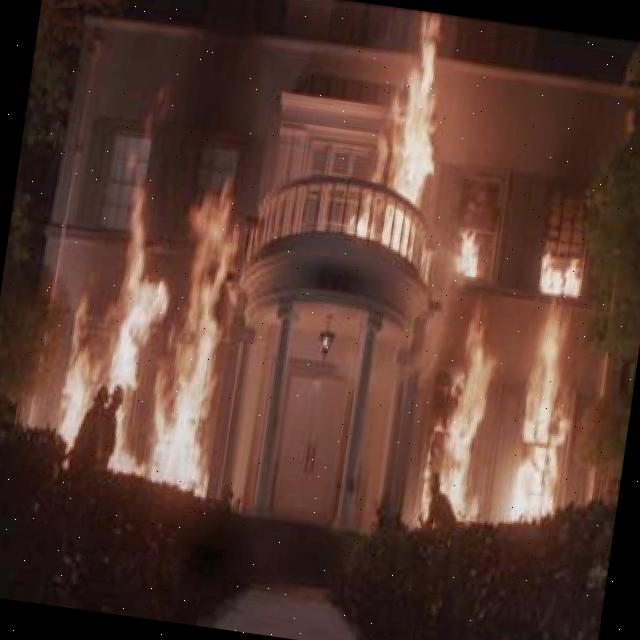fire: (52, 140, 254, 490), (402, 290, 508, 560), (360, 10, 458, 284), (504, 256, 584, 552), (449, 204, 495, 284)
